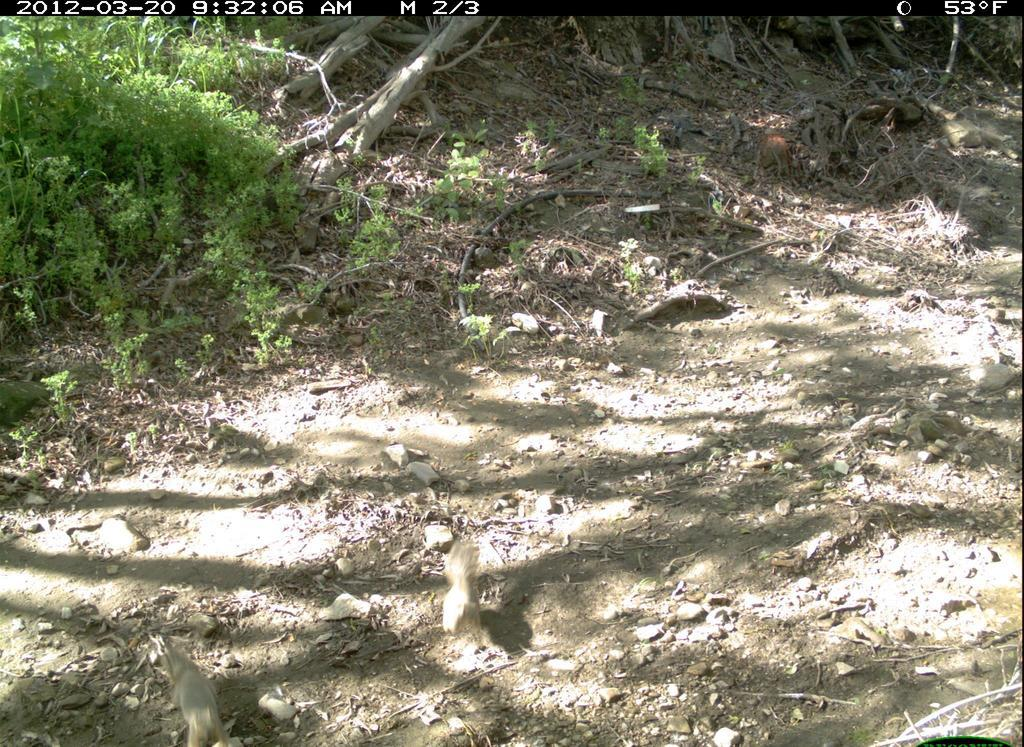squirrel: (150, 635, 239, 747), (425, 520, 499, 650)
